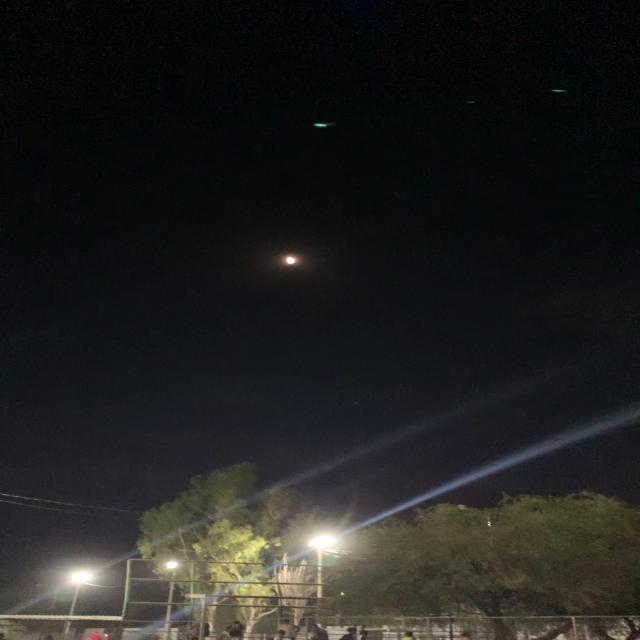moon: (282, 248, 306, 272)
